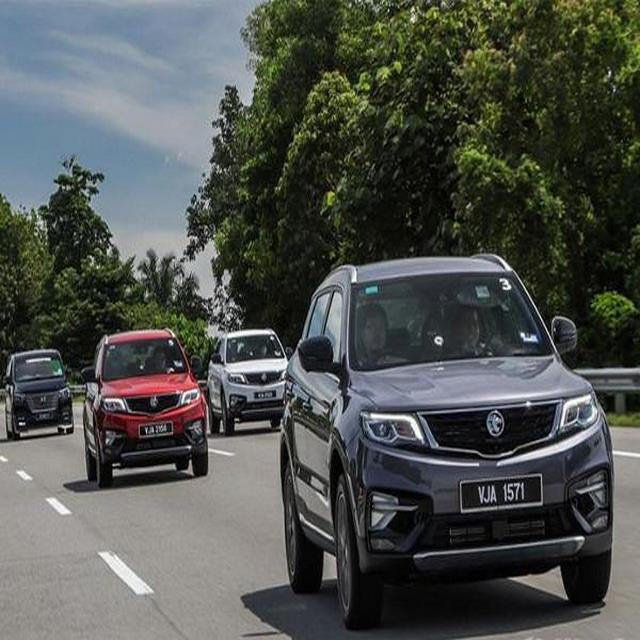License_Plate: (455, 471, 551, 521), (136, 420, 180, 440)
car: (280, 266, 623, 620), (82, 326, 212, 488)
